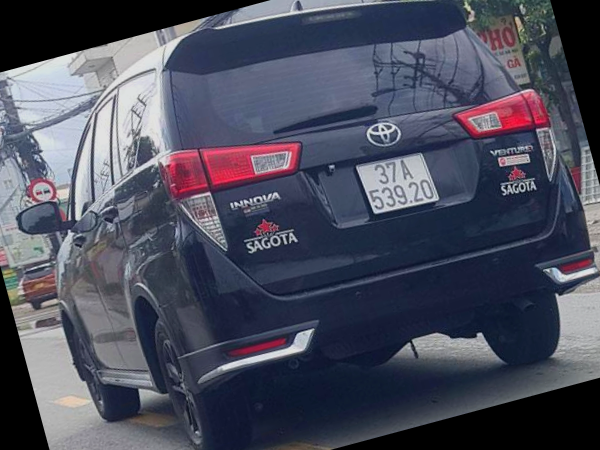lisence: (356, 152, 440, 215)
